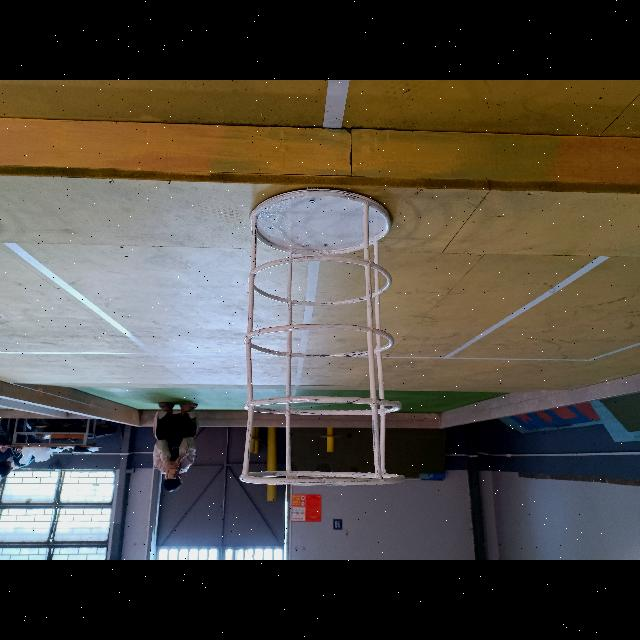S: (236, 182, 408, 486)
